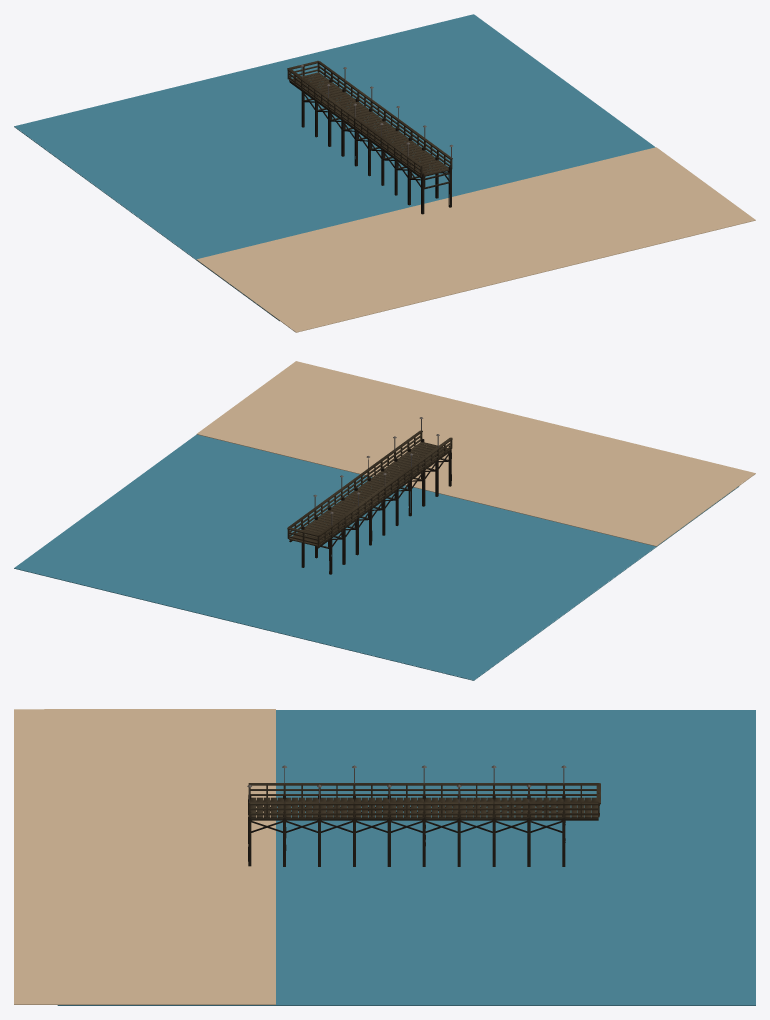
The model's file is oib-pier-clay.glb.
3 renders of one model, top to bottom at view 1: azimuth 30°, elevation 25°; view 2: azimuth 150°, elevation 25°; view 3: azimuth 270°, elevation 25°, orthographic. The views are drawn at different scales.
Visible parts, largest first — view 1: water, sand, toprail_224, toprail_200; view 2: water, sand, toprail_224, toprail_200; view 3: water, sand, toprail_200, toprail_224, midrail_201, botrail_202, sidebeam_193, midrail_225, botrail_226.
Boxes of the visible parts, <box> form: water: <box>14,14,655,321</box>; sand: <box>196,147,755,332</box>; toprail_224: <box>287,68,422,167</box>; toprail_200: <box>317,61,452,159</box>; water: <box>14,434,739,680</box>; sand: <box>196,361,755,546</box>; toprail_224: <box>317,437,452,536</box>; toprail_200: <box>287,431,422,527</box>; water: <box>57,710,755,1005</box>; sand: <box>14,709,275,1004</box>; toprail_200: <box>249,801,598,805</box>; toprail_224: <box>249,783,598,785</box>; midrail_201: <box>250,808,597,810</box>; botrail_202: <box>250,813,597,815</box>; sidebeam_193: <box>251,817,598,820</box>; midrail_225: <box>250,789,596,790</box>; botrail_226: <box>250,794,596,795</box>.
Size of the model in its own units: 80.01 by 10.65 by 85.01.
